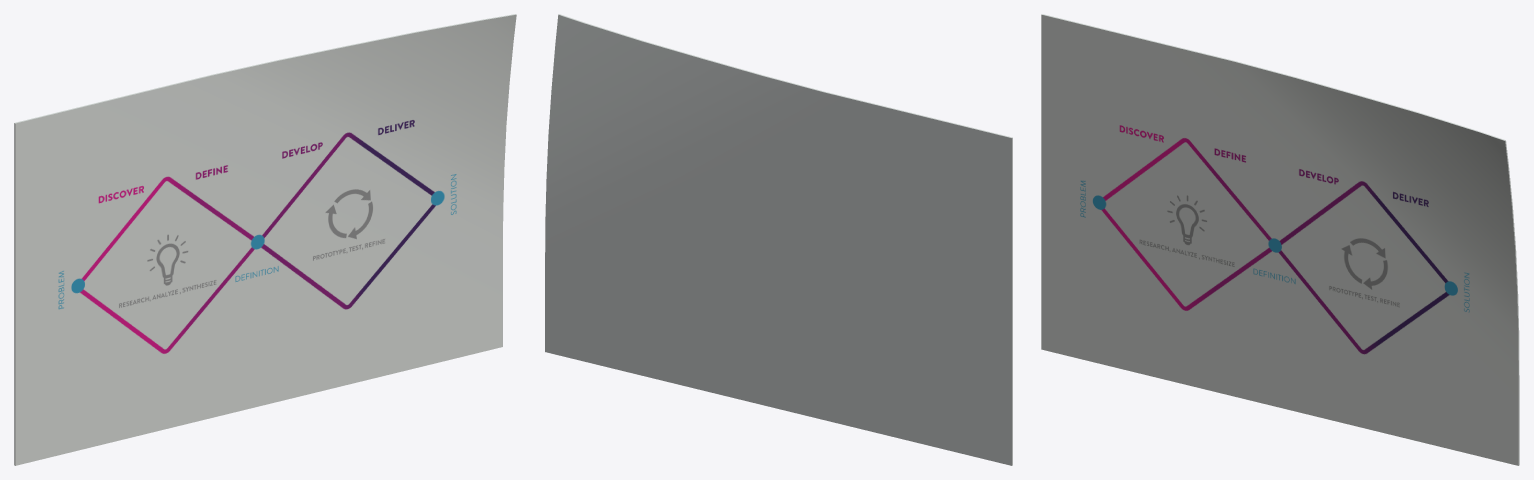
Rendered from doublediamond.glb.
3 views of the same model, side by side, from view 1: azimuth 30°, elevation 25°; view 2: azimuth 150°, elevation 25°; view 3: azimuth 330°, elevation 25° (orthographic). The views are drawn at different scales.
Visible parts, largest first — view 1: node_id51, mesh_id42; view 2: node_id51; view 3: node_id51, mesh_id42.
Boxes of the visible parts, x1=… form: node_id51: x1=14, y1=14, x2=516, y2=465; mesh_id42: x1=58, y1=120, x2=456, y2=353; node_id51: x1=545, y1=14, x2=1012, y2=465; node_id51: x1=1041, y1=14, x2=1519, y2=465; mesh_id42: x1=1080, y1=125, x2=1469, y2=354.
Size of the model in its own units: 0.512 by 0.3434 by 0.0267.
Materials: 2 (2 with a texture image).
